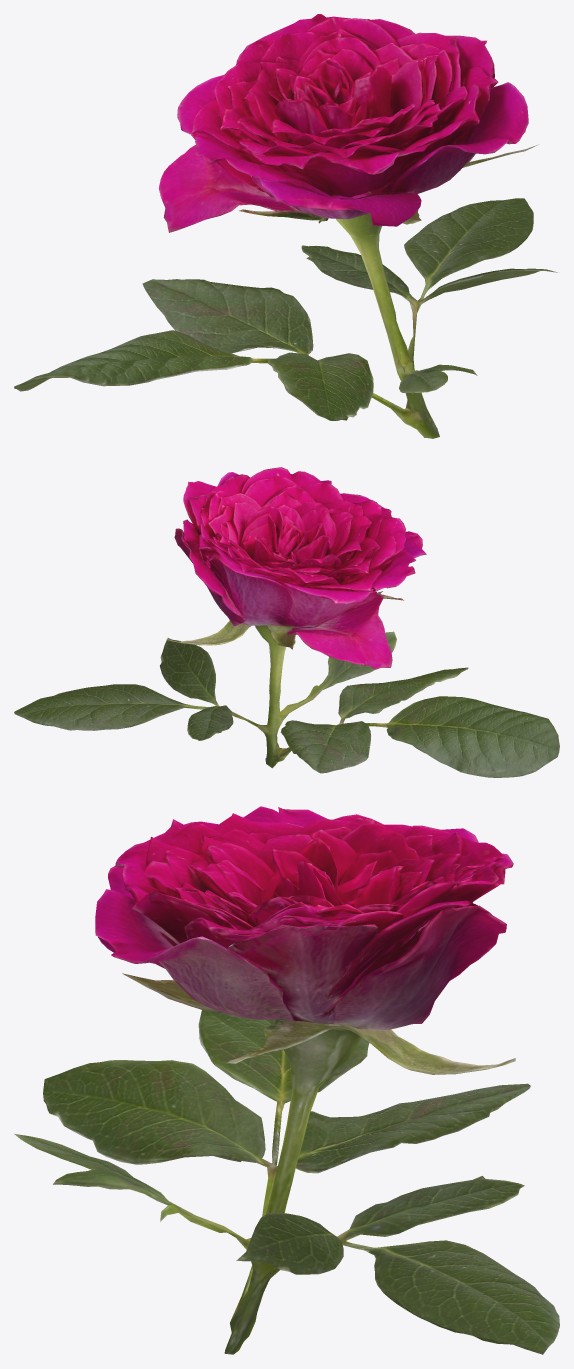
Rendered from anatomy_of_a_miniature_rose_-_photogrammetry.glb.
3 renders of one model, top to bottom at view 1: azimuth 30°, elevation 25°; view 2: azimuth 150°, elevation 25°; view 3: azimuth 270°, elevation 25°, orthographic. The views are drawn at different scales.
Parts seen in each view (by area): view 1: Rosa12K; view 2: Rosa12K; view 3: Rosa12K.
Boxes of the visible parts, left/top/right/bottom form: Rosa12K: left=14, top=14, right=557, bottom=438; Rosa12K: left=14, top=467, right=559, bottom=777; Rosa12K: left=14, top=806, right=559, bottom=1354.
Bounding box in the file's own units: 2.39 × 1.37 × 1.42.
1 material, 1 textured.
